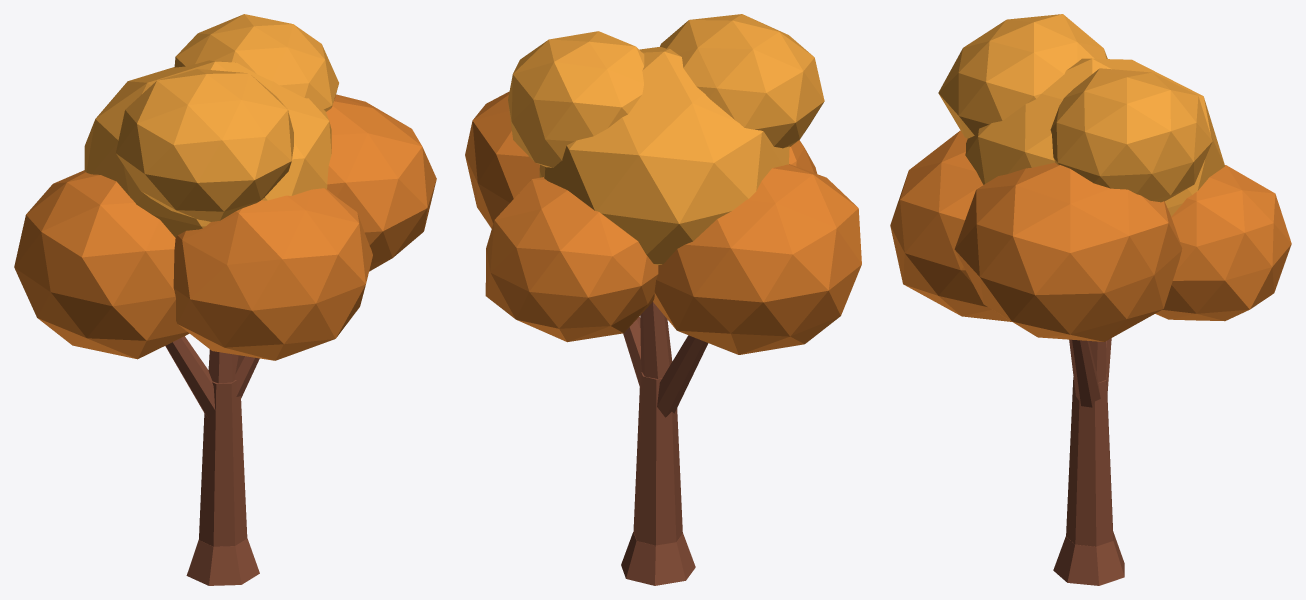
Rendered from Tree_Autumn.glb.
3 views of the same model, side by side, from view 1: azimuth 30°, elevation 25°; view 2: azimuth 150°, elevation 25°; view 3: azimuth 270°, elevation 25° (orthographic). The views are drawn at different scales.
Visible parts, largest first — view 1: Tree_Autumn; view 2: Tree_Autumn; view 3: Tree_Autumn.
Boxes of the visible parts, bbox=[...] form: Tree_Autumn: bbox=[14, 14, 436, 585]; Tree_Autumn: bbox=[465, 14, 861, 585]; Tree_Autumn: bbox=[890, 14, 1291, 585].
Bounding box in the file's own units: 3.43 × 4.64 × 3.2.
